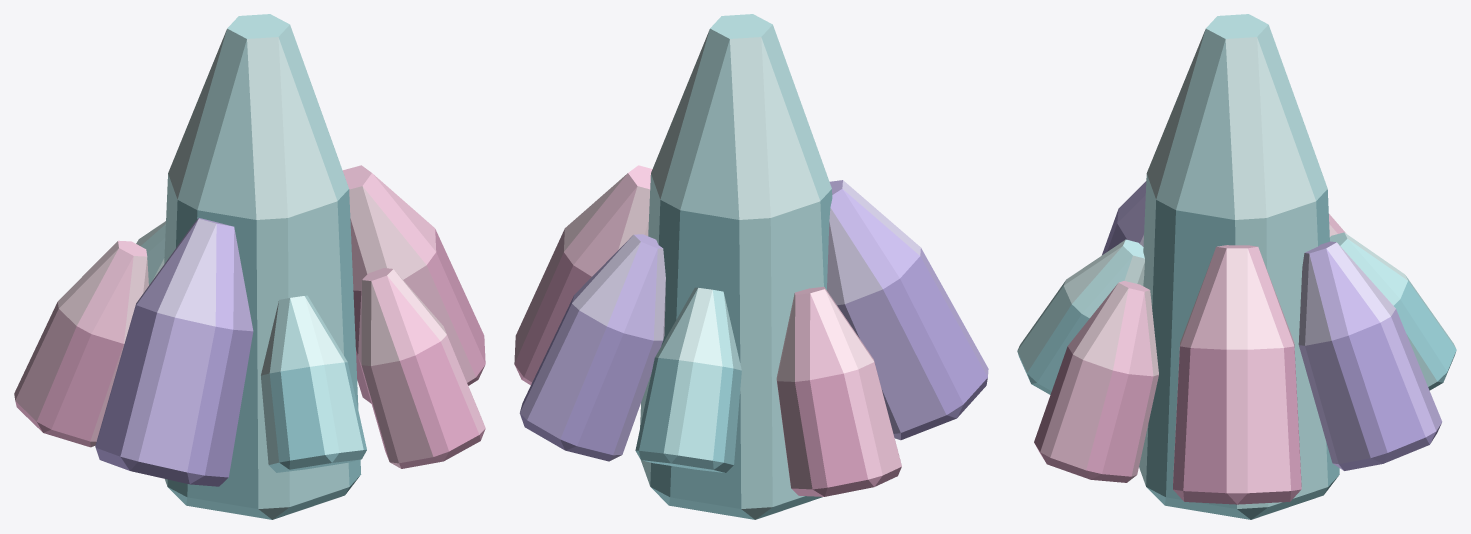
File: crystal3.glb
3 renders of one model, left to right at view 1: azimuth 30°, elevation 25°; view 2: azimuth 150°, elevation 25°; view 3: azimuth 270°, elevation 25°, orthographic.
Visible parts, largest first — view 1: c3_main, c3_ray_4, c3_ray_6, c3_ray_3, c3_ray_5, c3_ray_0, c3_ray_2; view 2: c3_main, c3_ray_4, c3_ray_1, c3_ray_3, c3_ray_2, c3_ray_0; view 3: c3_main, c3_ray_0, c3_ray_1, c3_ray_6, c3_ray_5, c3_ray_2, c3_ray_4.
Boxes of the visible parts, <box> form: c3_main: <box>164,14,361,519</box>; c3_ray_4: <box>95,218,253,486</box>; c3_ray_6: <box>358,268,485,468</box>; c3_ray_3: <box>14,240,148,447</box>; c3_ray_5: <box>261,295,366,472</box>; c3_ray_0: <box>342,165,485,403</box>; c3_ray_2: <box>136,221,165,284</box>; c3_main: <box>640,14,832,519</box>; c3_ray_4: <box>827,180,988,440</box>; c3_ray_1: <box>519,234,665,461</box>; c3_ray_3: <box>776,287,901,496</box>; c3_ray_2: <box>635,287,741,472</box>; c3_ray_0: <box>514,165,652,385</box>; c3_main: <box>1139,14,1339,519</box>; c3_ray_0: <box>1173,245,1301,504</box>; c3_ray_1: <box>1298,241,1442,470</box>; c3_ray_6: <box>1034,281,1158,482</box>; c3_ray_5: <box>1017,239,1144,394</box>; c3_ray_2: <box>1330,232,1456,390</box>; c3_ray_4: <box>1102,181,1146,254</box>.
Bounding box in the file's own units: 0.9217 × 0.9694 × 0.8493.
